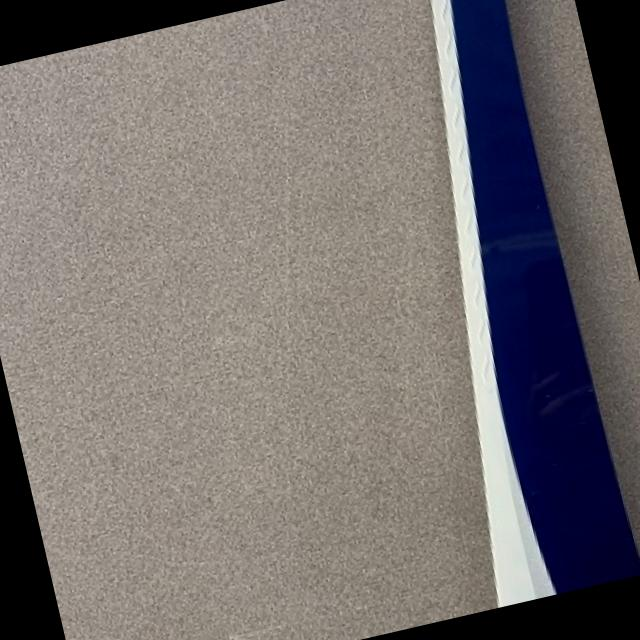healthy: (435, 0, 640, 605)
